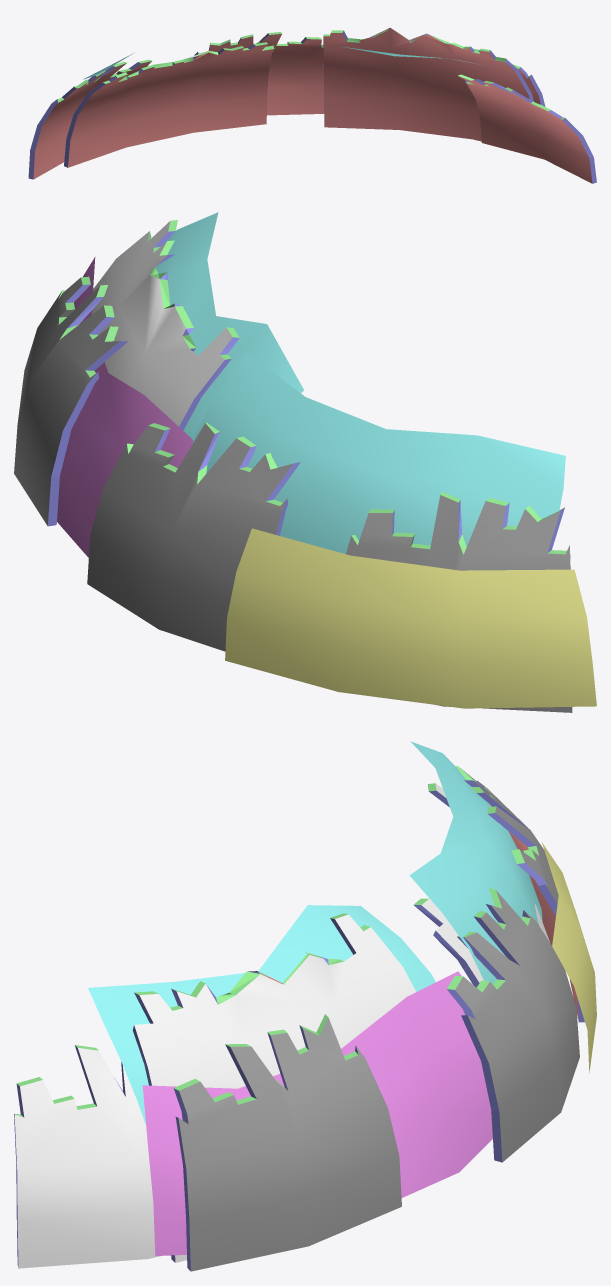
Rendered from PM_Plain_SetOBJ_01.gltf.
3 views of the same model, one above another, from view 1: azimuth 30°, elevation 25°; view 2: azimuth 150°, elevation 25°; view 3: azimuth 270°, elevation 25° (orthographic). The views are drawn at different scales.
Visible parts, largest first — view 1: PM_Plain_SetOBJ_01; view 2: PM_Plain_SetOBJ_01; view 3: PM_Plain_SetOBJ_01.
Boxes of the visible parts, x1=… form: PM_Plain_SetOBJ_01: x1=28, y1=27, x2=596, y2=183; PM_Plain_SetOBJ_01: x1=14, y1=212, x2=596, y2=712; PM_Plain_SetOBJ_01: x1=14, y1=741, x2=596, y2=1271.
Bounding box in the file's own units: 4.46 × 1.34 × 2.98.
